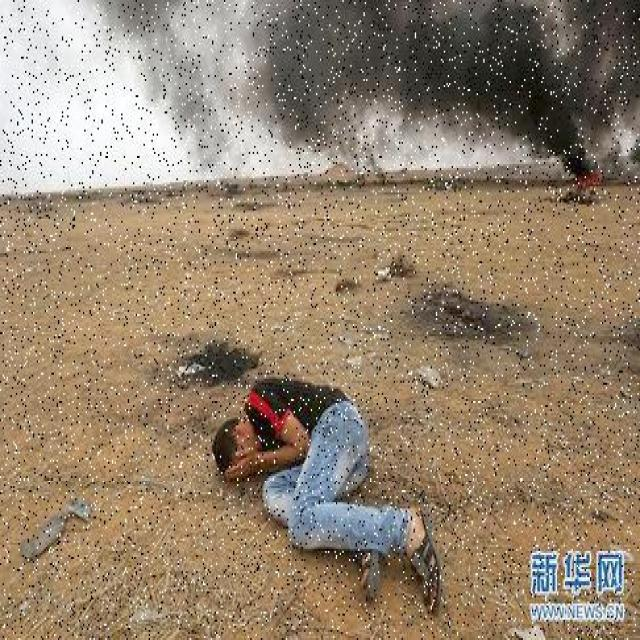fall: (209, 377, 453, 596)
